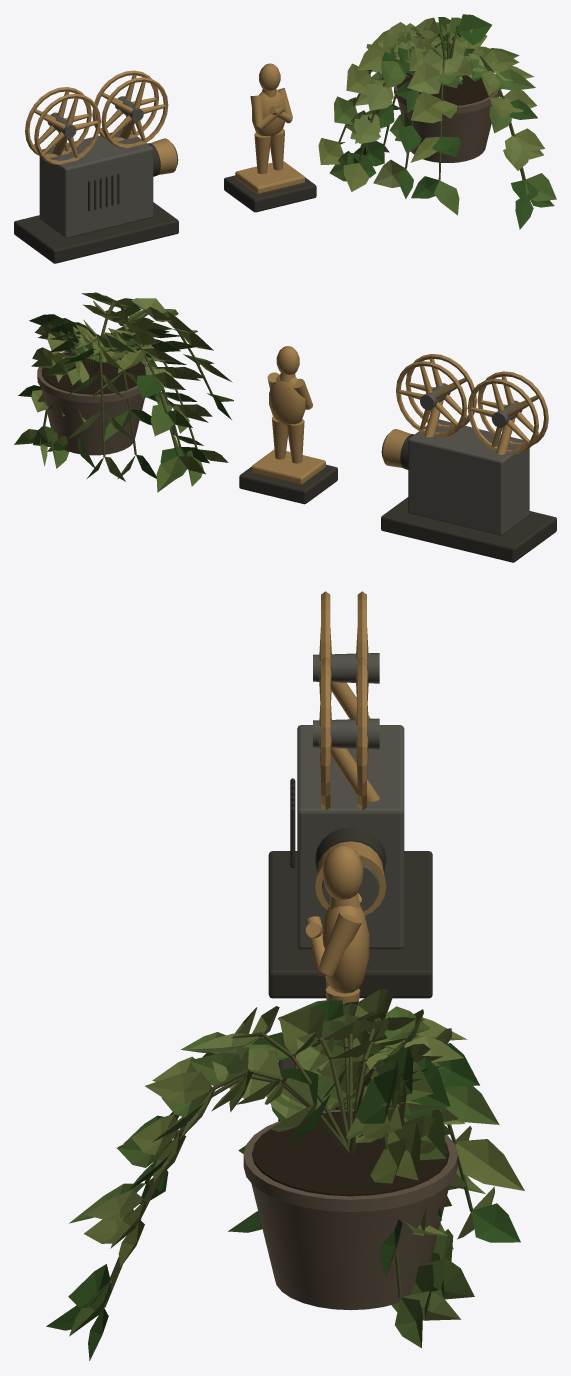
File: cinema-shelf-objects.glb
3 views of the same model, one above another, from view 1: azimuth 30°, elevation 25°; view 2: azimuth 150°, elevation 25°; view 3: azimuth 270°, elevation 25° (orthographic). The views are drawn at different scales.
Visible parts, largest first — view 1: Burnished brass, Lacquered edge, Pothos leaf 2, Ebonised camera body, Pothos leaf 0, Pothos leaf 3, Pothos leaf 1, Raku planter, Olive stems, Earth; view 2: Burnished brass, Lacquered edge, Ebonised camera body, Pothos leaf 2, Pothos leaf 1, Raku planter, Pothos leaf 3, Pothos leaf 0, Olive stems, Earth; view 3: Raku planter, Pothos leaf 2, Lacquered edge, Burnished brass, Pothos leaf 1, Ebonised camera body, Pothos leaf 3, Pothos leaf 0, Earth, Olive stems.
Part boxes in pixels (box(x1,y1,x2,y2)): Burnished brass: box(25, 63, 304, 194); Lacquered edge: box(39, 96, 178, 238); Pothos leaf 2: box(318, 17, 544, 191); Ebonised camera body: box(14, 143, 316, 263); Pothos leaf 0: box(347, 14, 554, 229); Pothos leaf 3: box(350, 22, 534, 187); Pothos leaf 1: box(329, 17, 556, 215); Raku planter: box(394, 72, 499, 162); Olive stems: box(338, 31, 525, 180); Earth: box(399, 73, 493, 105); Burnished brass: box(251, 346, 548, 484); Lacquered edge: box(381, 383, 529, 535); Ebonised camera body: box(239, 434, 556, 562); Pothos leaf 2: box(31, 292, 232, 474); Pothos leaf 1: box(14, 293, 233, 492); Raku planter: box(37, 352, 148, 455); Pothos leaf 3: box(37, 295, 212, 481); Pothos leaf 0: box(18, 314, 231, 478); Olive stems: box(43, 300, 212, 456); Earth: box(41, 352, 145, 394); Raku planter: box(243, 1109, 457, 1310); Pothos leaf 2: box(84, 989, 524, 1267); Lacquered edge: box(297, 653, 404, 949); Burnished brass: box(294, 591, 386, 1068); Pothos leaf 1: box(69, 999, 499, 1348); Ebonised camera body: box(268, 778, 432, 1121); Pothos leaf 3: box(84, 1003, 494, 1320); Pothos leaf 0: box(46, 1000, 520, 1360); Earth: box(252, 1111, 449, 1196); Olive stems: box(103, 1018, 473, 1307).
Size of the model in its own units: 1.15 by 0.4059 by 0.4966.
